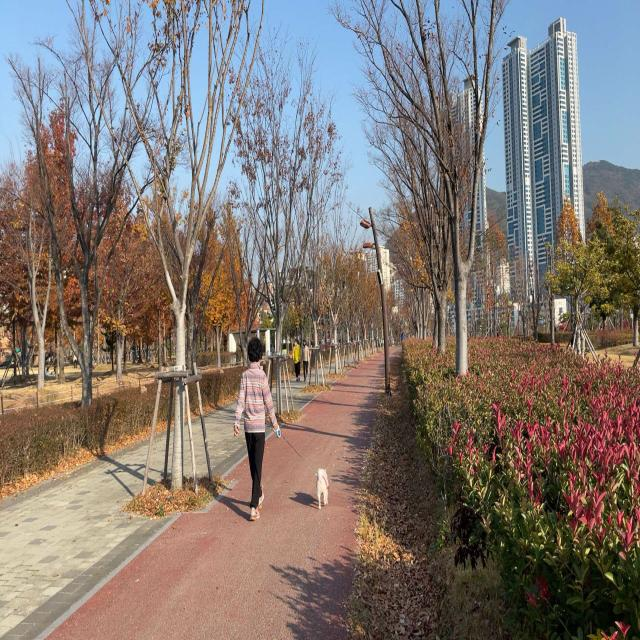Leashed_Dog: (256, 416, 330, 512)
